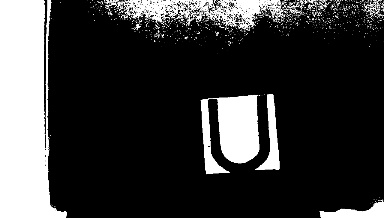U: (199, 95, 278, 171)
